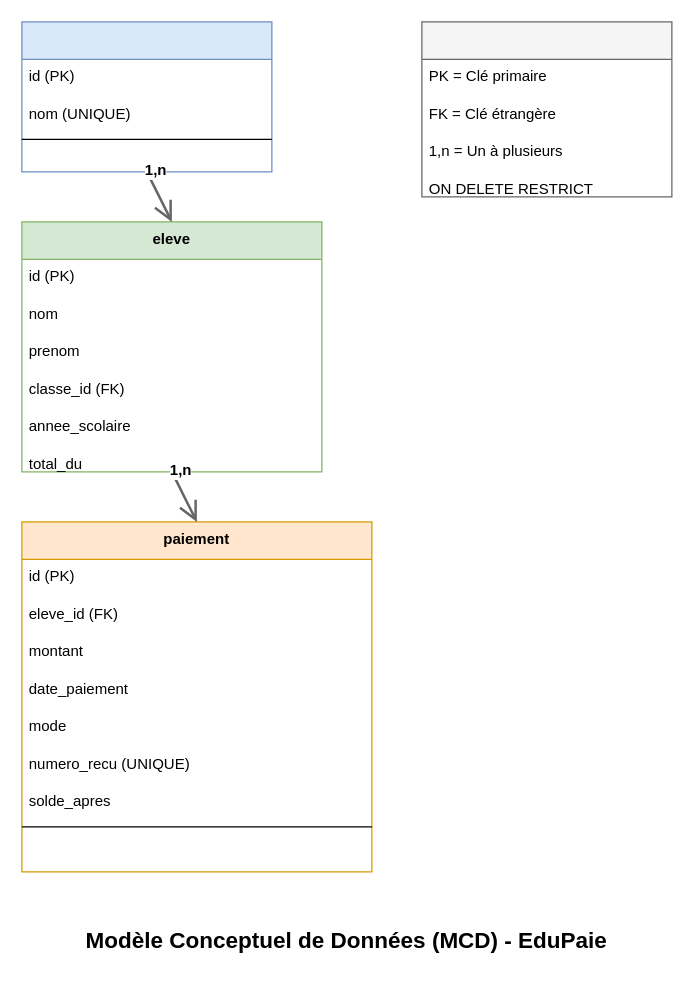
Image size: 694x981. Some labels were removed from this diagram. Each missing label, with the box of its shape:
classe: (21, 21, 272, 172)
Légende: (421, 21, 672, 197)
